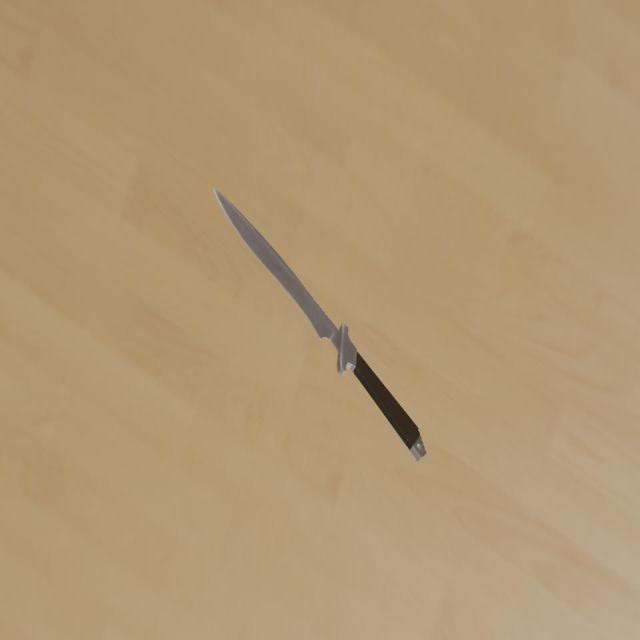knife: (353, 352, 426, 461)
